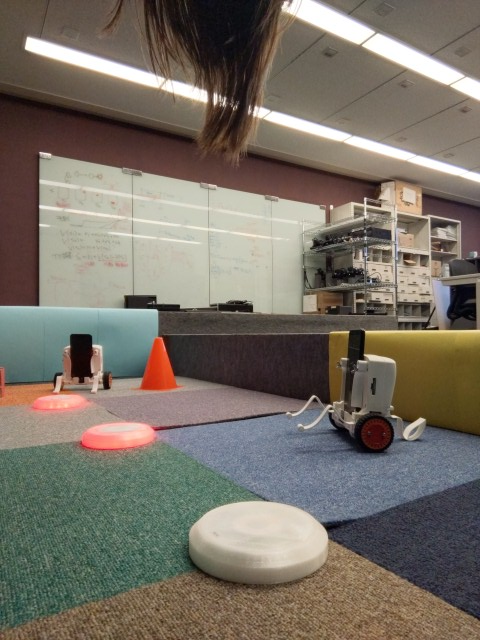bl: (291, 321, 425, 452)
f: (45, 329, 112, 395)
o: (184, 494, 332, 586)
r: (75, 419, 160, 454), (30, 391, 95, 411)
